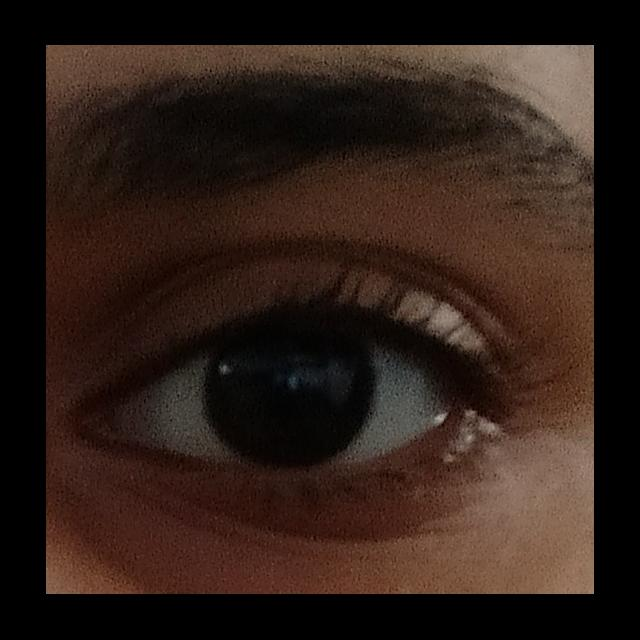eye: (120, 319, 455, 469)
iris: (203, 326, 377, 463)
